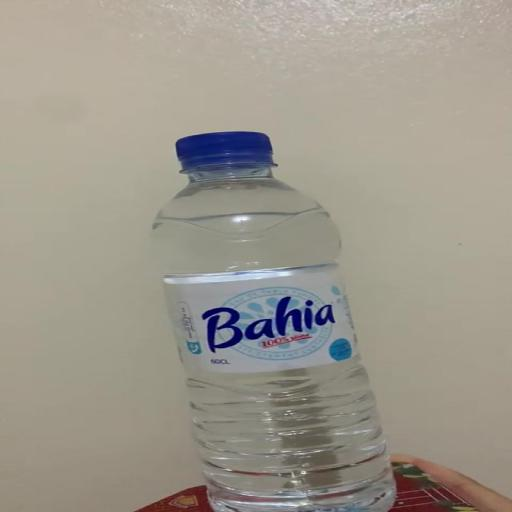bouteille conformite: (139, 114, 406, 512)
